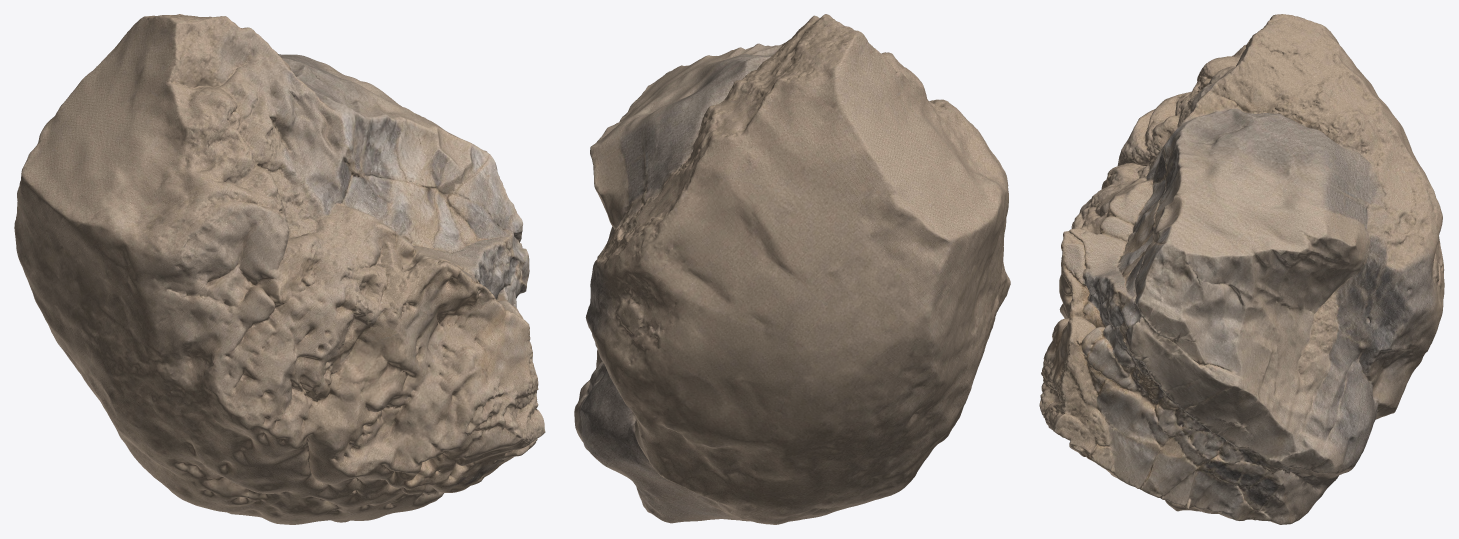
File: stone.glb
The picture shows the model from 3 angles, left to right: view 1: azimuth 30°, elevation 25°; view 2: azimuth 150°, elevation 25°; view 3: azimuth 270°, elevation 25°; orthographic projection. The views are drawn at different scales.
Visible parts, largest first — view 1: mesh_node; view 2: mesh_node; view 3: mesh_node.
Part boxes in pixels (box(x1,y1,x2,y2)): mesh_node: box(14, 14, 545, 524); mesh_node: box(574, 14, 1010, 524); mesh_node: box(1039, 14, 1444, 524).
Bounding box in the file's own units: 1.53 × 1.9 × 1.59.
1 material, 1 textured.
